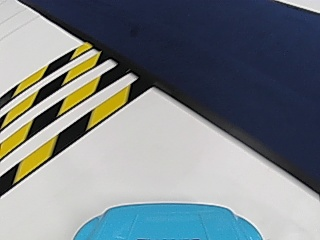bump: (6, 60, 93, 148)
